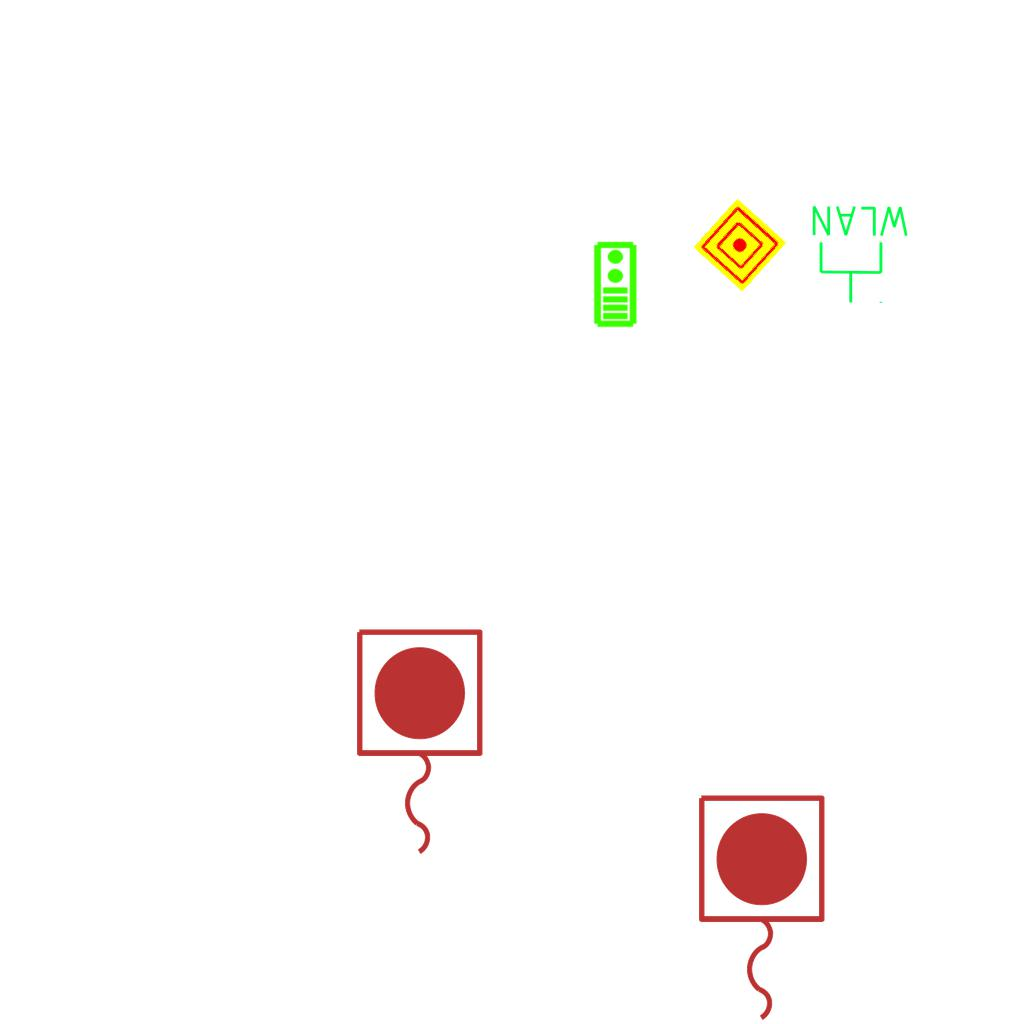Gegensprechanlage_mit_Video: (591, 240, 638, 328)
NAM-Nichtautomatischer_Melder: (693, 198, 787, 292)
WLAN: (808, 202, 913, 306)
Zugtaster: (346, 621, 490, 865), (688, 787, 832, 1024)
